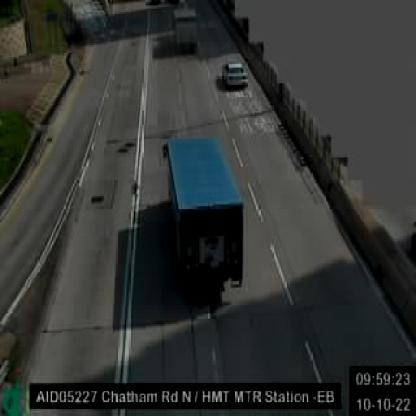Car: (1, 322, 22, 406), (222, 60, 248, 86)
Truck: (164, 135, 245, 292), (174, 6, 198, 56)
